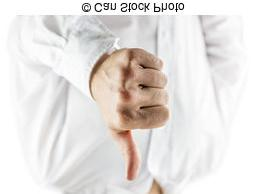thumbsdown: (98, 46, 172, 182)
